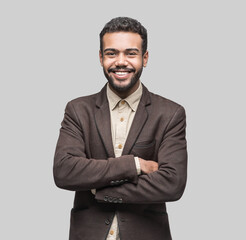young: (90, 13, 154, 93)
